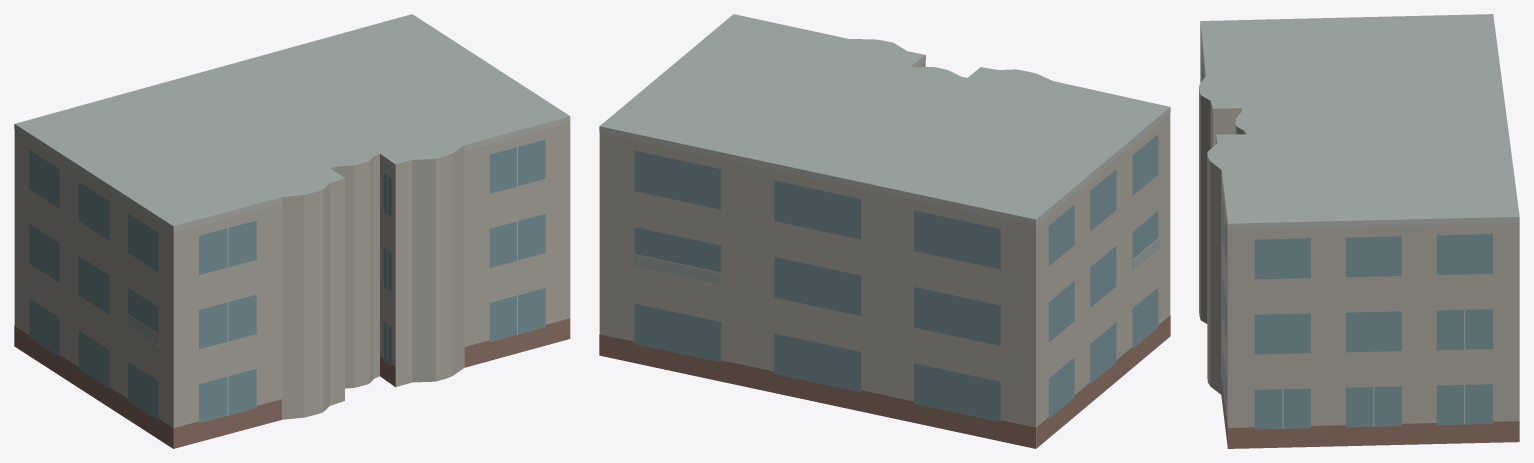
Rendered from survey-upis-32598870.glb.
3 views of the same model, side by side, from view 1: azimuth 30°, elevation 25°; view 2: azimuth 150°, elevation 25°; view 3: azimuth 270°, elevation 25° (orthographic). The views are drawn at different scales.
Visible parts, largest first — view 1: survey-upis-32598870.tmp; view 2: survey-upis-32598870.tmp; view 3: survey-upis-32598870.tmp.
Part boxes in pixels (box(x1,y1,x2,y2)): survey-upis-32598870.tmp: box(14, 14, 570, 448); survey-upis-32598870.tmp: box(599, 14, 1170, 448); survey-upis-32598870.tmp: box(1199, 14, 1519, 448).
Bounding box in the file's own units: 18.28 × 9.15 × 11.81.
